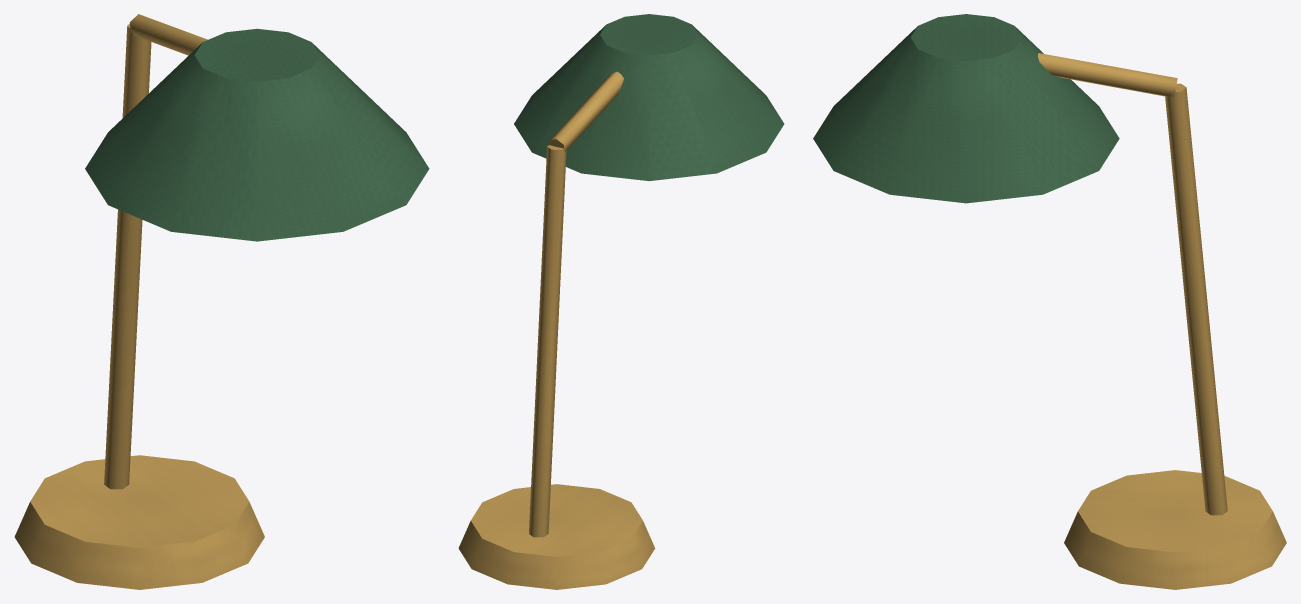
File: OB_Lampa_Biurkowa.fbx
The picture shows the model from 3 angles, left to right: view 1: azimuth 30°, elevation 25°; view 2: azimuth 150°, elevation 25°; view 3: azimuth 270°, elevation 25°; orthographic projection. The views are drawn at different scales.
Visible parts, largest first — view 1: Lampa; view 2: Lampa; view 3: Lampa.
Boxes of the visible parts, <box> form: Lampa: <box>14,14,429,589</box>; Lampa: <box>458,14,784,589</box>; Lampa: <box>813,14,1286,589</box>.
Size of the model in its own units: 0.22 by 0.4 by 0.34.
